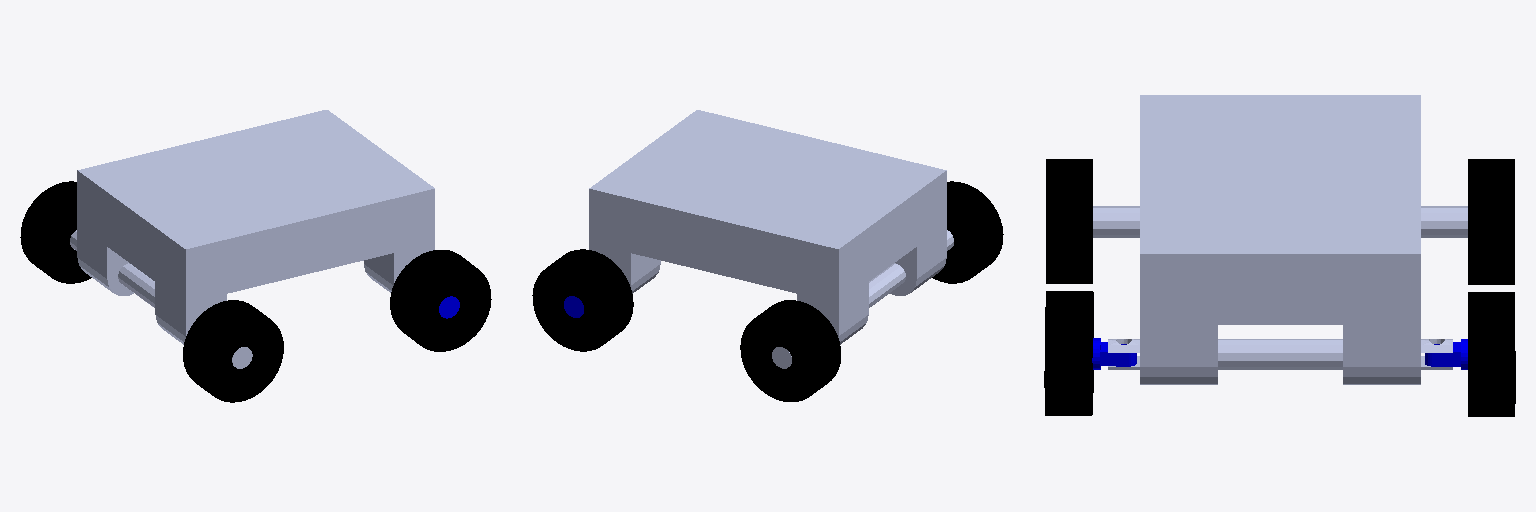
URDF robot description (simple_car):
<?xml version="1.0" encoding="utf-8"?>
<!-- This URDF was automatically created by SolidWorks to URDF Exporter! Originally created by [author] ([email redacted]) 
     Commit Version: 1.6.0-1-g15f4949  Build Version: 1.6.7594.29634
     For more information, please see http://wiki.ros.org/sw_urdf_exporter -->
<robot
  name="simple_car">
  <link
    name="base_link">
    <inertial>
      <origin
        xyz="0.42123 0.50665 0.43018"
        rpy="0 0 0" />
      <mass
        value="42.886" />
      <inertia
        ixx="1.0059"
        ixy="-0.01679"
        ixz="1.4641E-07"
        iyy="2.4369"
        iyz="-5.8077E-08"
        izz="1.7367" />
    </inertial>
    <visual>
      <origin
        xyz="0 0 0"
        rpy="0 0 0" />
      <geometry>
        <mesh
          filename="package://simple_car/meshes/base_link.STL" />
      </geometry>
      <material
        name="">
        <color
          rgba="0.79216 0.81961 0.93333 1" />
      </material>
    </visual>
    <collision>
      <origin
        xyz="0 0 0"
        rpy="0 0 0" />
      <geometry>
        <mesh
          filename="package://simple_car/meshes/base_link.STL" />
      </geometry>
    </collision>
  </link>
  <link
    name="S_R">
    <inertial>
      <origin
        xyz="3.6637E-15 0.0254 0.068366"
        rpy="0 0 0" />
      <mass
        value="0.22586" />
      <inertia
        ixx="0.00034327"
        ixy="6.532E-24"
        ixz="-8.5053E-19"
        iyy="0.00034804"
        iyz="7.0833E-22"
        izz="6.7813E-05" />
    </inertial>
    <visual>
      <origin
        xyz="0 0 0"
        rpy="0 0 0" />
      <geometry>
        <mesh
          filename="package://simple_car/meshes/S_R.STL" />
      </geometry>
      <material
        name="">
        <color
          rgba="0 0 1 1" />
      </material>
    </visual>
    <collision>
      <origin
        xyz="0 0 0"
        rpy="0 0 0" />
      <geometry>
        <mesh
          filename="package://simple_car/meshes/S_R.STL" />
      </geometry>
    </collision>
  </link>
  <joint
    name="SR_Joint"
    type="revolute">
    <origin
      xyz="0.67855 -0.68418 0.36349"
      rpy="1.5708 0 -0.023053" />
    <parent
      link="base_link" />
    <child
      link="S_R" />
    <axis
      xyz="0 1 0" />
    <limit
      lower="-3.141"
      upper="3.141"
      effort="1000"
      velocity="1000" />
  </joint>
  <link
    name="Wheel_FR">
    <inertial>
      <origin
        xyz="2.3315E-15 -2.387E-15 0.03806"
        rpy="0 0 0" />
      <mass
        value="2.3167" />
      <inertia
        ixx="0.0074731"
        ixy="3.5893E-19"
        ixz="-1.1316E-17"
        iyy="0.0074731"
        iyz="-4.391E-18"
        izz="0.012704" />
    </inertial>
    <visual>
      <origin
        xyz="0 0 0"
        rpy="0 0 0" />
      <geometry>
        <mesh
          filename="package://simple_car/meshes/Wheel_FR.STL" />
      </geometry>
      <material
        name="">
        <color
          rgba="0 0 0 1" />
      </material>
    </visual>
    <collision>
      <origin
        xyz="0 0 0"
        rpy="0 0 0" />
      <geometry>
        <mesh
          filename="package://simple_car/meshes/Wheel_FR.STL" />
      </geometry>
    </collision>
  </link>
  <joint
    name="WFR"
    type="continuous">
    <origin
      xyz="0 0.0254 0.05084"
      rpy="0 0 -2.3643" />
    <parent
      link="S_R" />
    <child
      link="Wheel_FR" />
    <axis
      xyz="0 0 1" />
  </joint>
  <link
    name="S_L">
    <inertial>
      <origin
        xyz="1.1102E-16 0.0254 0.068366"
        rpy="0 0 0" />
      <mass
        value="0.22586" />
      <inertia
        ixx="0.00034327"
        ixy="5.1099E-23"
        ixz="-3.7056E-19"
        iyy="0.00034804"
        iyz="1.514E-21"
        izz="6.7813E-05" />
    </inertial>
    <visual>
      <origin
        xyz="0 0 0"
        rpy="0 0 0" />
      <geometry>
        <mesh
          filename="package://simple_car/meshes/S_L.STL" />
      </geometry>
      <material
        name="">
        <color
          rgba="0 0 1 1" />
      </material>
    </visual>
    <collision>
      <origin
        xyz="0 0 0"
        rpy="0 0 0" />
      <geometry>
        <mesh
          filename="package://simple_car/meshes/S_L.STL" />
      </geometry>
    </collision>
  </link>
  <joint
    name="SL_Joint"
    type="revolute">
    <origin
      xyz="0.67855 -0.17618 0.36349"
      rpy="1.5708 0 -3.1389" />
    <parent
      link="base_link" />
    <child
      link="S_L" />
    <axis
      xyz="0 1 0" />
    <limit
      lower="-3.141"
      upper="3.141"
      effort="1000"
      velocity="1000" />
  </joint>
  <link
    name="Wheel_FL">
    <inertial>
      <origin
        xyz="4.996E-16 -1.6653E-15 -0.038667"
        rpy="0 0 0" />
      <mass
        value="2.3167" />
      <inertia
        ixx="0.0074731"
        ixy="-2.6413E-20"
        ixz="6.7637E-18"
        iyy="0.0074731"
        iyz="3.4542E-18"
        izz="0.012704" />
    </inertial>
    <visual>
      <origin
        xyz="0 0 0"
        rpy="0 0 0" />
      <geometry>
        <mesh
          filename="package://simple_car/meshes/Wheel_FL.STL" />
      </geometry>
      <material
        name="">
        <color
          rgba="0 0 0 1" />
      </material>
    </visual>
    <collision>
      <origin
        xyz="0 0 0"
        rpy="0 0 0" />
      <geometry>
        <mesh
          filename="package://simple_car/meshes/Wheel_FL.STL" />
      </geometry>
    </collision>
  </link>
  <joint
    name="WFL"
    type="continuous">
    <origin
      xyz="0 0.0254 0.050233"
      rpy="-3.1416 0 -1.5262" />
    <parent
      link="S_L" />
    <child
      link="Wheel_FL" />
    <axis
      xyz="0 0 1" />
  </joint>
  <link
    name="Wheel_BR">
    <inertial>
      <origin
        xyz="0 0 0.0381"
        rpy="0 0 0" />
      <mass
        value="2.3167" />
      <inertia
        ixx="0.0074731"
        ixy="-4.3368E-19"
        ixz="1.5264E-19"
        iyy="0.0074731"
        iyz="-3.1795E-20"
        izz="0.012704" />
    </inertial>
    <visual>
      <origin
        xyz="0 0 0"
        rpy="0 0 0" />
      <geometry>
        <mesh
          filename="package://simple_car/meshes/Wheel_BR.STL" />
      </geometry>
      <material
        name="">
        <color
          rgba="0 0 0 1" />
      </material>
    </visual>
    <collision>
      <origin
        xyz="0 0 0"
        rpy="0 0 0" />
      <geometry>
        <mesh
          filename="package://simple_car/meshes/Wheel_BR.STL" />
      </geometry>
    </collision>
  </link>
  <joint
    name="WBR"
    type="continuous">
    <origin
      xyz="0.17055 -0.73498 0.38889"
      rpy="1.5708 -1.2878 0" />
    <parent
      link="base_link" />
    <child
      link="Wheel_BR" />
    <axis
      xyz="0 0 1" />
  </joint>
  <link
    name="Wheel_BL">
    <inertial>
      <origin
        xyz="-1.1102E-16 2.7756E-17 0.0381"
        rpy="0 0 0" />
      <mass
        value="2.3167" />
      <inertia
        ixx="0.0074731"
        ixy="2.7105E-20"
        ixz="2.7591E-19"
        iyy="0.0074731"
        iyz="-2.9506E-21"
        izz="0.012704" />
    </inertial>
    <visual>
      <origin
        xyz="0 0 0"
        rpy="0 0 0" />
      <geometry>
        <mesh
          filename="package://simple_car/meshes/Wheel_BL.STL" />
      </geometry>
      <material
        name="">
        <color
          rgba="0 0 0 1" />
      </material>
    </visual>
    <collision>
      <origin
        xyz="0 0 0"
        rpy="0 0 0" />
      <geometry>
        <mesh
          filename="package://simple_car/meshes/Wheel_BL.STL" />
      </geometry>
    </collision>
  </link>
  <joint
    name="WBL"
    type="continuous">
    <origin
      xyz="0.17055 -0.049183 0.38889"
      rpy="-1.5708 1.5191 -3.1416" />
    <parent
      link="base_link" />
    <child
      link="Wheel_BL" />
    <axis
      xyz="0 0 1" />
  </joint>
</robot>

--- Facts derived from the render (not from the file) ---
The picture shows the robot from 3 angles, left to right: view 1: azimuth 30°, elevation 25°; view 2: azimuth 150°, elevation 25°; view 3: azimuth 270°, elevation 25°; orthographic projection.
Model simple_car with 7 links and 6 joints (2 revolute, 4 continuous), rooted at base_link, posed all joints at 0.
Links seen in each view (by area): view 1: base_link, Wheel_FR, Wheel_BR, Wheel_BL; view 2: base_link, Wheel_FL, Wheel_BL, Wheel_BR; view 3: base_link, Wheel_FR, Wheel_FL, Wheel_BL, Wheel_BR, S_R, S_L.
Link boxes in pixels (box(x1,y1,x2,y2)): base_link: box(70, 110, 434, 368); Wheel_FR: box(390, 250, 491, 351); Wheel_BR: box(183, 300, 283, 402); Wheel_BL: box(20, 181, 91, 283); base_link: box(589, 110, 953, 368); Wheel_FL: box(532, 249, 633, 351); Wheel_BL: box(740, 300, 840, 401); Wheel_BR: box(932, 181, 1003, 283); base_link: box(1093, 95, 1467, 384); Wheel_FR: box(1044, 291, 1093, 415); Wheel_FL: box(1468, 292, 1515, 416); Wheel_BL: box(1468, 159, 1514, 284); Wheel_BR: box(1046, 159, 1092, 283); S_R: box(1092, 338, 1136, 369); S_L: box(1425, 339, 1467, 369).
Bounding box of the posed robot: 0.7109 × 0.7646 × 0.3047 m (x, y, z).
7 mesh visuals loaded from 7 distinct referenced files (7 binary STL).
